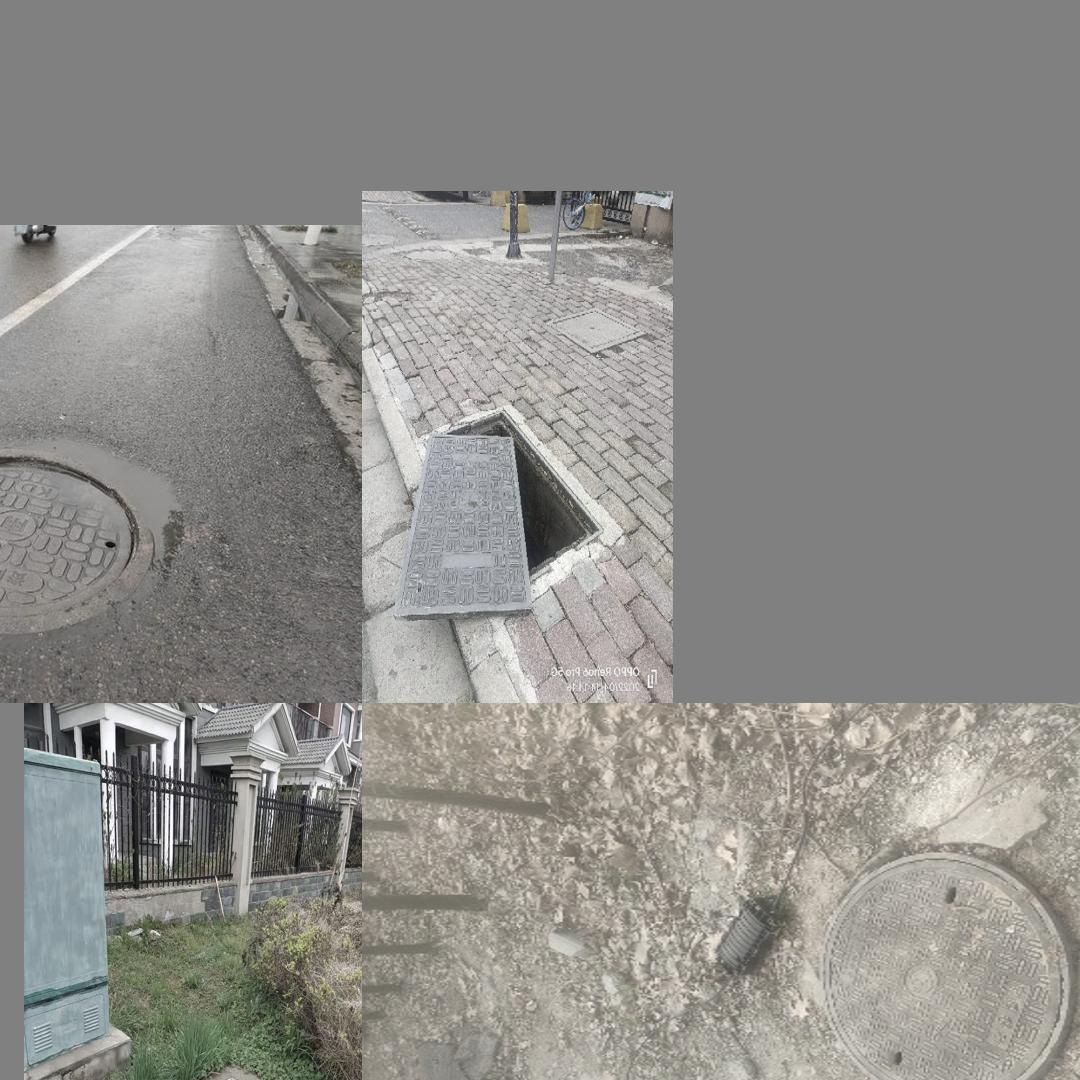good: (819, 850, 1076, 1080), (0, 430, 195, 641), (545, 307, 648, 354), (78, 1077, 362, 1080)
uncovered: (395, 400, 621, 622)
